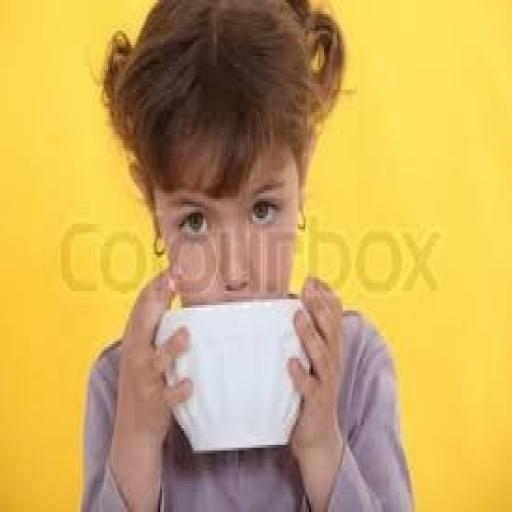drinking: (152, 294, 312, 453)
